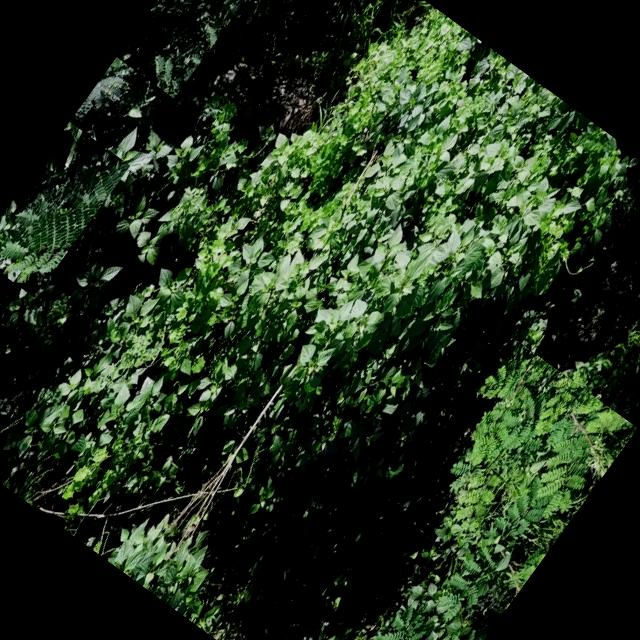Mysore-Thorn-Weed: (263, 335, 637, 640), (0, 121, 129, 297), (115, 0, 306, 98)
